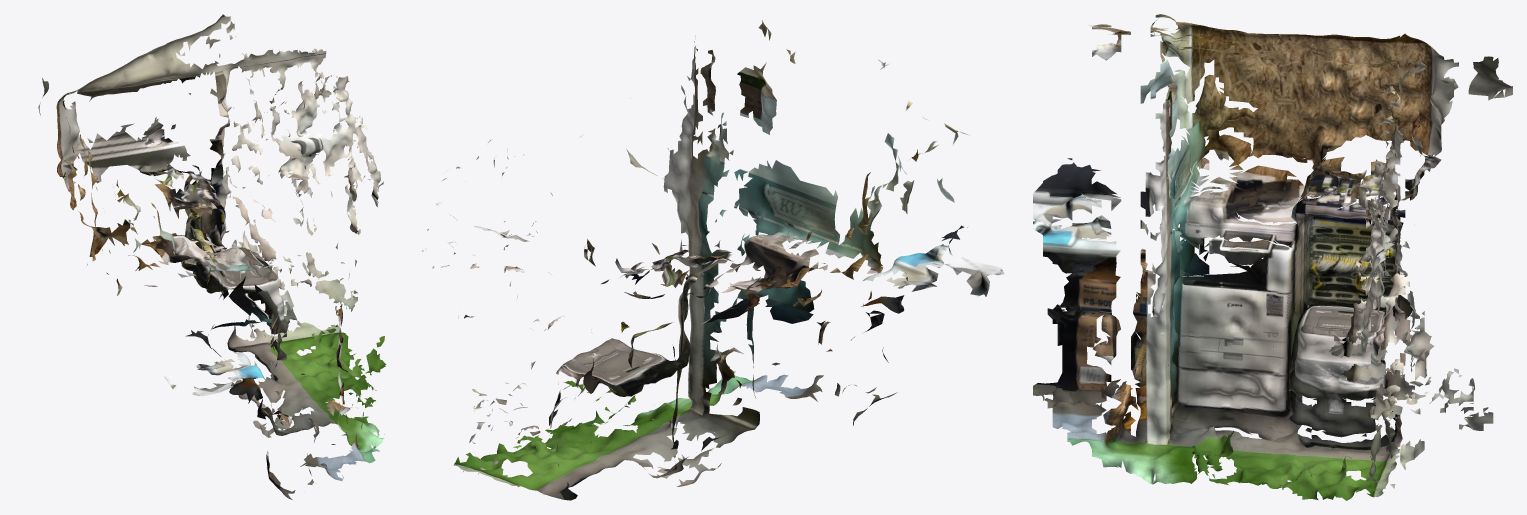
Rendered from 140749-XspaceRoom6-tex.glb.
The picture shows the model from 3 angles, left to right: view 1: azimuth 30°, elevation 25°; view 2: azimuth 150°, elevation 25°; view 3: azimuth 270°, elevation 25°; orthographic projection. The views are drawn at different scales.
Visible parts, largest first — view 1: Node; view 2: Node; view 3: Node.
Boxes of the visible parts, x1,y1,x2,y2 form: Node: (38, 14, 386, 499); Node: (422, 20, 1004, 500); Node: (1033, 14, 1512, 500).
Size of the model in its own units: 2.41 by 2.31 by 2.48.
Materials: 4 (4 with a texture image).
